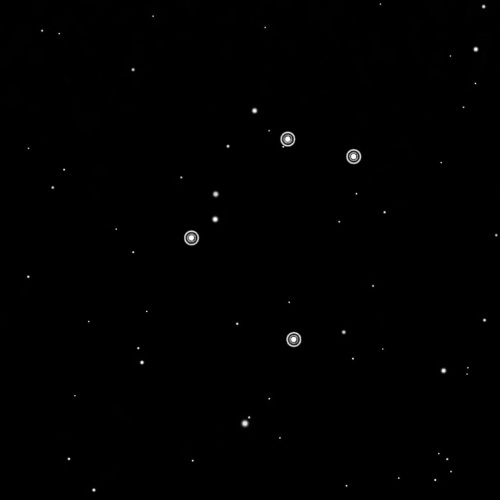coma_berenices: (173, 123, 368, 361)
